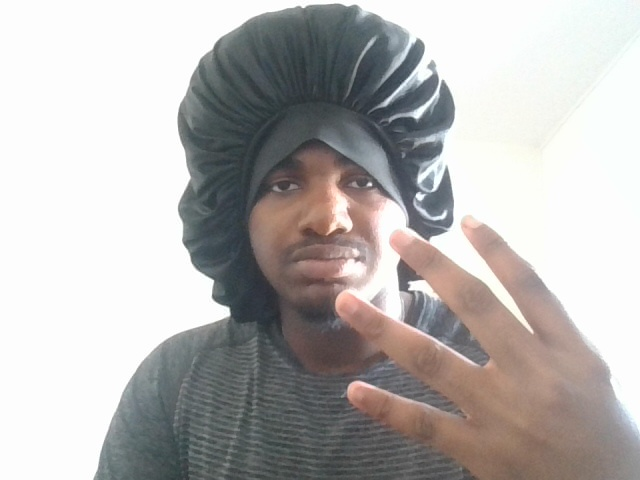I am Better Than Yu: (336, 223, 640, 445)
